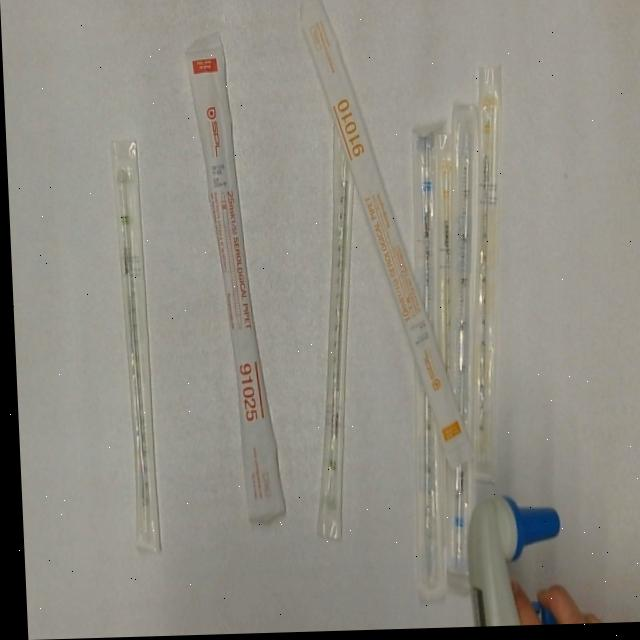Pipette Controller: (450, 488, 597, 630)
Serelogical Pipet 1 mL: (452, 75, 523, 483), (422, 134, 468, 387)
Serelogical Pipet 10 mL: (296, 0, 469, 471)
Serelogical Pipet 2 mL: (290, 115, 366, 544), (109, 136, 160, 560)
Serelogical Pipet 25 mL: (183, 29, 298, 530)
Serelogical Pipet 5 mL: (391, 116, 461, 604), (426, 105, 495, 597)
